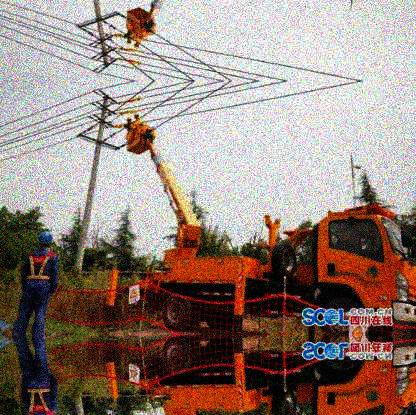helmet: (38, 230, 53, 250), (133, 43, 141, 50), (133, 113, 140, 120), (126, 38, 132, 46), (126, 116, 132, 123)
